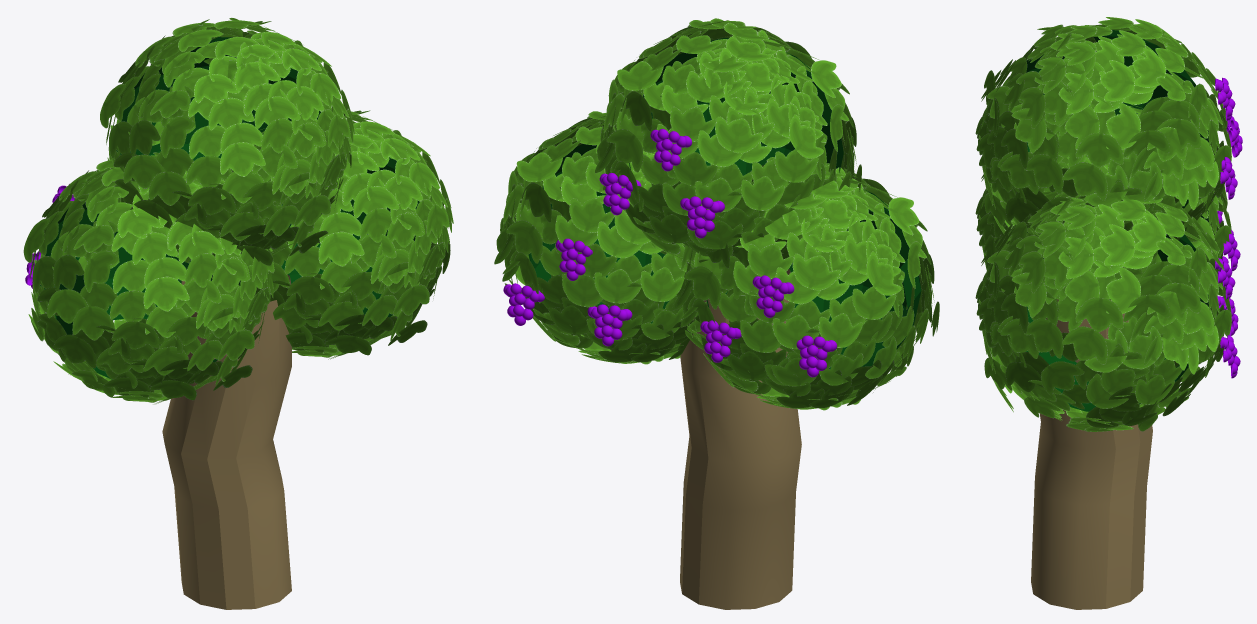
File: grape_tree.fbx
The picture shows the model from 3 angles, left to right: view 1: azimuth 30°, elevation 25°; view 2: azimuth 150°, elevation 25°; view 3: azimuth 270°, elevation 25°; orthographic projection.
Parts seen in each view (by area): view 1: grape_tree; view 2: grape_tree; view 3: grape_tree.
Part boxes in pixels (x1,y1,x2,y2): grape_tree: (23, 17, 453, 609); grape_tree: (494, 18, 939, 609); grape_tree: (975, 17, 1242, 609).
Size of the model in its own units: 350 by 452 by 198.
Materials: 4 (2 with a texture image).
